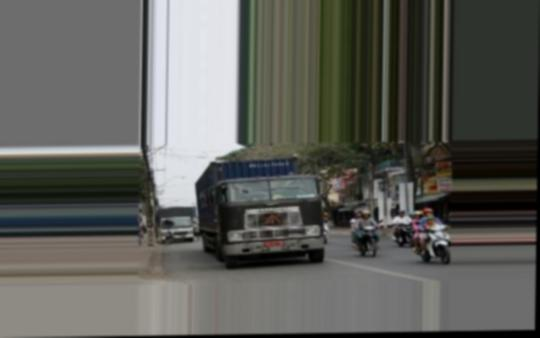License_Plate: (264, 241, 284, 246)
